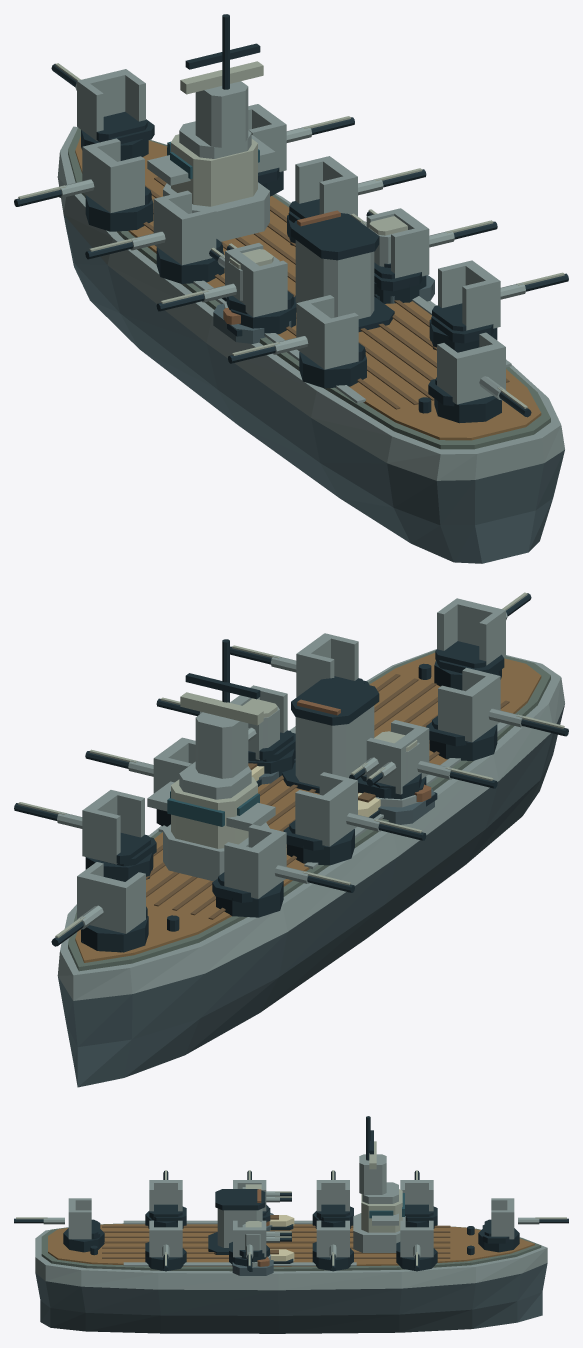
The model's file is historic-niels-juel.glb.
The picture shows the model from 3 angles, top to bottom: view 1: azimuth 30°, elevation 25°; view 2: azimuth 150°, elevation 25°; view 3: azimuth 270°, elevation 25°; orthographic projection. The views are drawn at different scales.
Parts seen in each view (by area): view 1: historic-niels-juel-historic-niels-juel-geometry, historic-niels-juel-part_bridge.068-geometry, historic-niels-juel-historic_funnel_0.071-geometry, historic-niels-juel-turret_main_2.049-geometry, historic-niels-juel-turret_main_8.002-geometry, historic-niels-juel-turret_main_9.002-geometry, historic-niels-juel-turret_main_4.008-geometry, historic-niels-juel-turret_main_1.056-geometry, historic-niels-juel-turret_main_0.060-geometry, historic-niels-juel-turret_main_6.002-geometry, historic-niels-juel-turret_main_7.002-geometry, historic-niels-juel-turret_main_5.003-geometry (+4 smaller); view 2: historic-niels-juel-historic-niels-juel-geometry, historic-niels-juel-part_bridge.068-geometry, historic-niels-juel-historic_funnel_0.071-geometry, historic-niels-juel-turret_main_2.049-geometry, historic-niels-juel-turret_main_8.002-geometry, historic-niels-juel-turret_main_4.008-geometry, historic-niels-juel-turret_main_3.031-geometry, historic-niels-juel-turret_main_0.060-geometry, historic-niels-juel-turret_main_1.056-geometry, historic-niels-juel-turret_main_6.002-geometry, historic-niels-juel-turret_main_9.002-geometry, historic-niels-juel-turret_main_7.002-geometry (+4 smaller); view 3: historic-niels-juel-historic-niels-juel-geometry, historic-niels-juel-part_bridge.068-geometry, historic-niels-juel-historic_funnel_0.071-geometry, historic-niels-juel-turret_main_0.060-geometry, historic-niels-juel-turret_main_1.056-geometry, historic-niels-juel-turret_main_8.002-geometry, historic-niels-juel-turret_main_4.008-geometry, historic-niels-juel-turret_main_5.003-geometry, historic-niels-juel-turret_main_3.031-geometry, historic-niels-juel-turret_main_9.002-geometry, historic-niels-juel-turret_main_2.049-geometry, historic-niels-juel-turret_main_7.002-geometry (+4 smaller).
Boxes of the visible parts, x1=… form: historic-niels-juel-historic-niels-juel-geometry: x1=57, y1=126, x2=564, y2=563; historic-niels-juel-part_bridge.068-geometry: x1=147, y1=14, x2=275, y2=241; historic-niels-juel-historic_funnel_0.071-geometry: x1=291, y1=210, x2=394, y2=331; historic-niels-juel-turret_main_2.049-geometry: x1=14, y1=138, x2=153, y2=231; historic-niels-juel-turret_main_8.002-geometry: x1=228, y1=295, x2=366, y2=388; historic-niels-juel-turret_main_9.002-geometry: x1=429, y1=260, x2=568, y2=352; historic-niels-juel-turret_main_4.008-geometry: x1=85, y1=190, x2=224, y2=283; historic-niels-juel-turret_main_1.056-geometry: x1=428, y1=332, x2=531, y2=423; historic-niels-juel-turret_main_0.060-geometry: x1=51, y1=63, x2=154, y2=160; historic-niels-juel-turret_main_6.002-geometry: x1=156, y1=243, x2=295, y2=335; historic-niels-juel-turret_main_7.002-geometry: x1=366, y1=208, x2=497, y2=303; historic-niels-juel-turret_main_5.003-geometry: x1=287, y1=156, x2=426, y2=245; historic-niels-juel-historic-niels-juel-geometry: x1=57, y1=649, x2=564, y2=1087; historic-niels-juel-part_bridge.068-geometry: x1=147, y1=639, x2=275, y2=881; historic-niels-juel-historic_funnel_0.071-geometry: x1=282, y1=677, x2=379, y2=793; historic-niels-juel-turret_main_2.049-geometry: x1=212, y1=824, x2=354, y2=917; historic-niels-juel-turret_main_8.002-geometry: x1=426, y1=667, x2=568, y2=760; historic-niels-juel-turret_main_4.008-geometry: x1=283, y1=772, x2=426, y2=865; historic-niels-juel-turret_main_3.031-geometry: x1=14, y1=790, x2=156, y2=881; historic-niels-juel-turret_main_0.060-geometry: x1=51, y1=862, x2=148, y2=952; historic-niels-juel-turret_main_1.056-geometry: x1=434, y1=592, x2=531, y2=690; historic-niels-juel-turret_main_6.002-geometry: x1=357, y1=720, x2=497, y2=798; historic-niels-juel-turret_main_9.002-geometry: x1=230, y1=633, x2=369, y2=697; historic-niels-juel-turret_main_7.002-geometry: x1=156, y1=685, x2=295, y2=776; historic-niels-juel-historic-niels-juel-geometry: x1=35, y1=1215, x2=547, y2=1333; historic-niels-juel-part_bridge.068-geometry: x1=353, y1=1116, x2=405, y2=1252; historic-niels-juel-historic_funnel_0.071-geometry: x1=208, y1=1189, x2=265, y2=1254; historic-niels-juel-turret_main_0.060-geometry: x1=478, y1=1198, x2=568, y2=1252; historic-niels-juel-turret_main_1.056-geometry: x1=14, y1=1198, x2=104, y2=1252; historic-niels-juel-turret_main_8.002-geometry: x1=145, y1=1170, x2=186, y2=1228; historic-niels-juel-turret_main_4.008-geometry: x1=312, y1=1170, x2=353, y2=1228; historic-niels-juel-turret_main_5.003-geometry: x1=312, y1=1220, x2=353, y2=1271; historic-niels-juel-turret_main_3.031-geometry: x1=396, y1=1220, x2=437, y2=1271; historic-niels-juel-turret_main_9.002-geometry: x1=145, y1=1220, x2=186, y2=1271; historic-niels-juel-turret_main_2.049-geometry: x1=400, y1=1170, x2=437, y2=1228; historic-niels-juel-turret_main_7.002-geometry: x1=229, y1=1220, x2=270, y2=1271.
Bounding box in the file's own units: 1.92 × 1.84 × 4.68.
